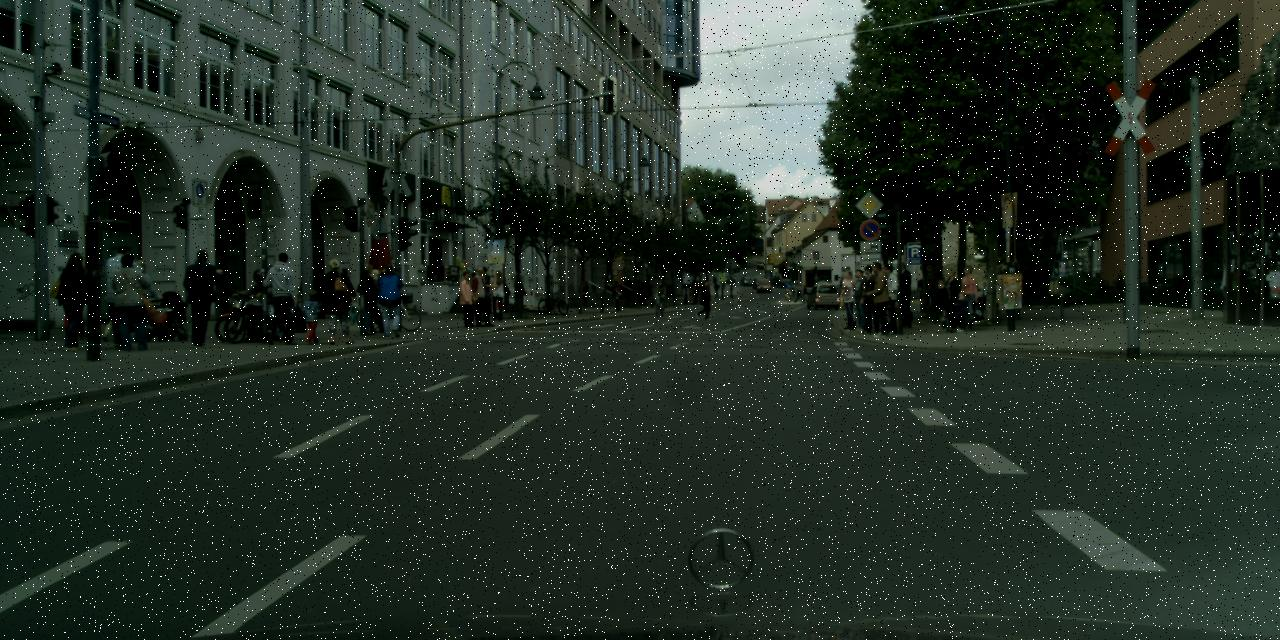ped: (104, 247, 144, 349), (54, 252, 94, 351), (180, 249, 220, 347), (112, 254, 150, 350), (263, 252, 301, 344), (319, 259, 354, 343), (120, 260, 154, 342), (98, 261, 131, 341), (60, 262, 91, 340), (864, 262, 894, 336), (245, 267, 275, 341), (376, 263, 405, 336), (353, 263, 382, 333), (875, 263, 904, 333), (854, 264, 882, 332), (938, 266, 965, 332), (954, 265, 981, 331), (891, 262, 918, 328), (847, 268, 872, 332), (470, 266, 494, 326), (836, 270, 860, 328), (456, 270, 479, 327), (301, 289, 324, 344), (472, 266, 494, 321), (487, 268, 508, 321), (934, 279, 954, 331), (952, 290, 968, 332), (696, 280, 712, 318), (496, 275, 510, 312), (371, 305, 383, 333), (654, 280, 665, 308), (578, 279, 588, 305), (373, 270, 384, 282), (801, 284, 808, 302), (712, 282, 718, 298), (796, 287, 802, 301), (712, 276, 717, 286)
